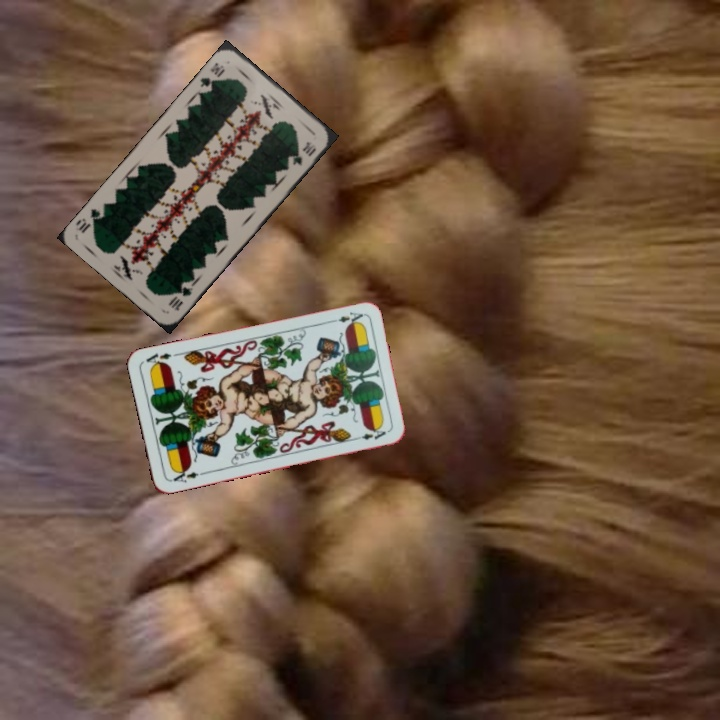EA: (169, 464, 207, 485), (325, 308, 366, 327)
G10: (164, 279, 197, 314), (196, 58, 228, 91)
